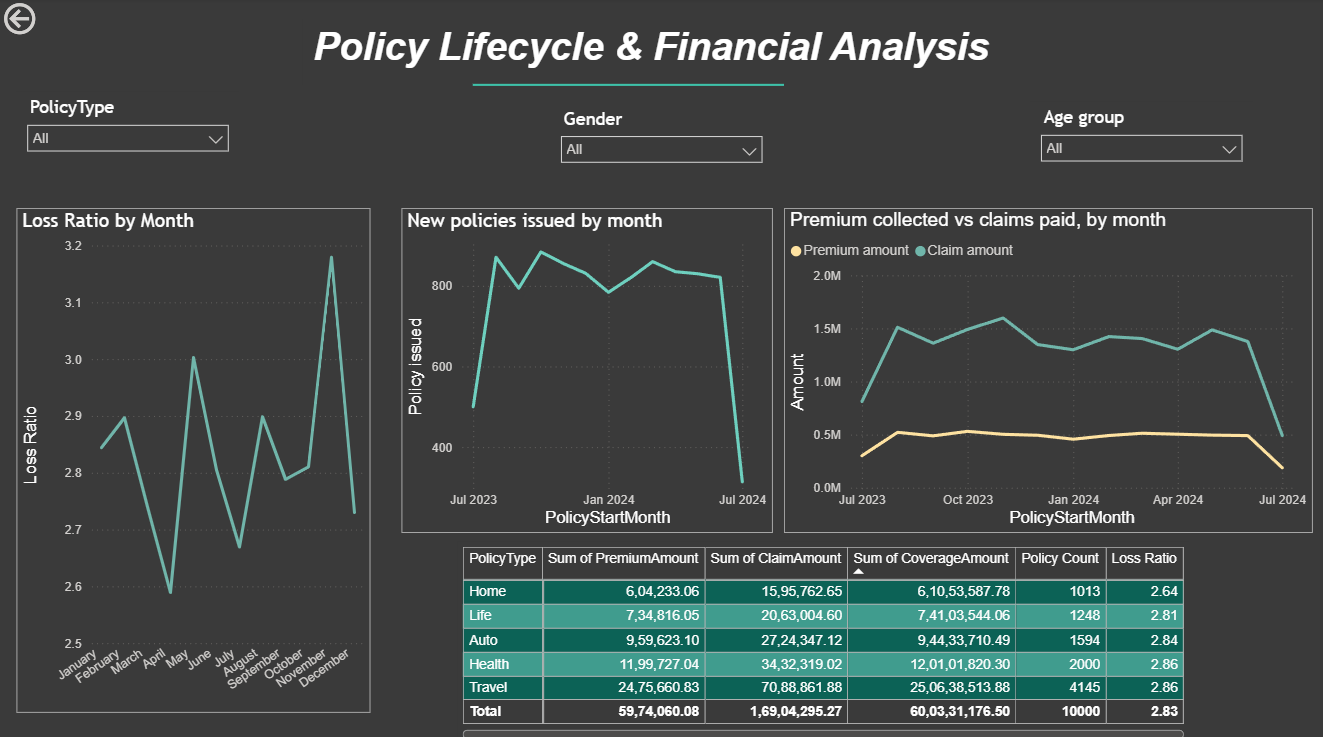

The page's visual inventory and layout, read from the dashboard file:
{"tool":"powerbi","page":{"name":"Analysis","canvas":[1280,720],"ordinal":1},"visuals":[{"type":"actionButton","box":[0,0,100,40],"z":0},{"type":"actionButton","box":[0,0,100,40],"z":1000},{"type":"textbox","box":[293.2,20.5,672,70],"z":2000},{"type":"slicer","fields":{"Values":["InsuranceData.PolicyType"]},"box":[16.9,90.5,214.7,78.4],"z":3000},{"type":"slicer","fields":{"Values":["InsuranceData.Gender"]},"box":[532,101.3,214.7,78.4],"z":4000},{"type":"slicer","fields":{"Values":["InsuranceData.Age group"]},"box":[995.3,100.1,214.7,78.4],"z":5000},{"type":"lineChart","title":"New policies issued by month","fields":{"Y":["CountNonNull(InsuranceData.PolicyNumber)"],"Category":["InsuranceData.PolicyStartMonth"]},"box":[388.5,202.7,358.3,313.7],"z":6000},{"type":"pivotTable","fields":{"Rows":["InsuranceData.PolicyType"],"Values":["Sum(InsuranceData.PremiumAmount)","Sum(InsuranceData.ClaimAmount)","Sum(InsuranceData.CoverageAmount)","InsuranceData.Policy Count","InsuranceData.Loss Ratio"]},"box":[442.8,524.8,705.8,195.4],"z":7000},{"type":"lineChart","fields":{"Category":["InsuranceData.PolicyStartDate.Variation.Date Hierarchy.Year","InsuranceData.PolicyStartDate.Variation.Date Hierarchy.Quarter","InsuranceData.PolicyStartDate.Variation.Date Hierarchy.Month","InsuranceData.PolicyStartDate.Variation.Date Hierarchy.Day"],"Y":["InsuranceData.Loss Ratio"]},"box":[16.9,202.7,341.4,487.4],"z":8000},{"type":"lineChart","title":"Premium collected vs claims paid, by month","fields":{"Y":["Sum(InsuranceData.PremiumAmount)","Sum(InsuranceData.ClaimAmount)"],"Category":["InsuranceData.PolicyStartMonth"]},"box":[757.6,202.7,510.3,313.7],"z":9000},{"type":"shape","box":[457.2,55.5,300.4,56.7],"z":9001}]}

Visuals, with their boxes in screenshot pixels (x1, y1, x2, y2), scaled from the page's 1280x720 canvas onto the 1323x737 screenshot:
actionButton: 0 0 103 41
actionButton: 0 0 103 41
textbox: 303 21 998 93
slicer - InsuranceData.PolicyType: 17 93 239 173
slicer - InsuranceData.Gender: 550 104 772 184
slicer - InsuranceData.Age group: 1029 102 1251 183
"New policies issued by month" lineChart: 402 207 772 529
pivotTable - InsuranceData.PolicyType x Sum(InsuranceData.PremiumAmount): 458 537 1187 736
lineChart - InsuranceData.PolicyStartDate.Variation.Date Hierarchy.Year x InsuranceData.PolicyStartDate.Variation.Date Hierarchy.Quarter: 17 207 370 706
"Premium collected vs claims paid, by month" lineChart: 783 207 1310 529
shape: 473 57 783 115
